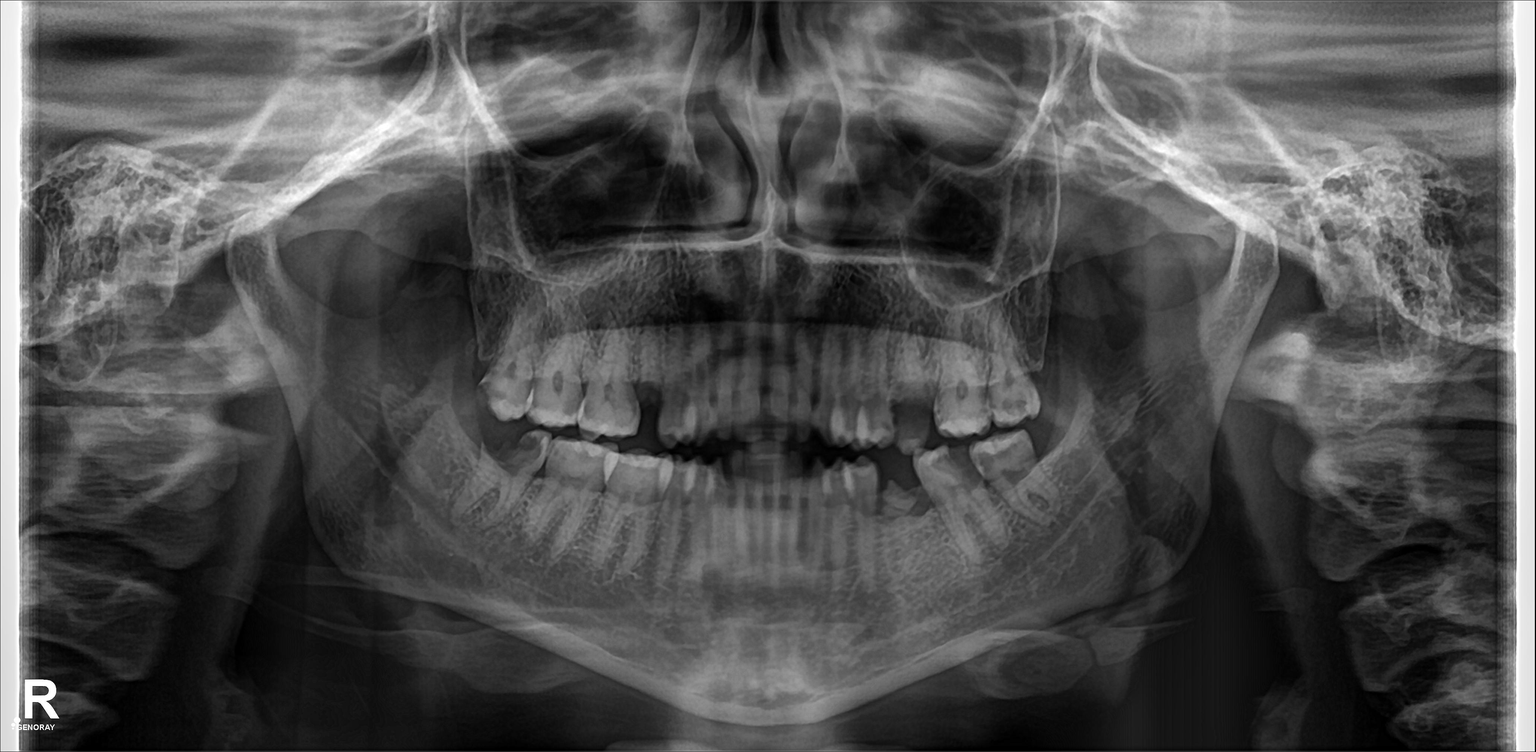Impacted Third Molar: (482, 436, 539, 506)
Missing Tooth: (896, 341, 934, 448), (633, 342, 666, 431)
Retained Root: (886, 469, 921, 536)
